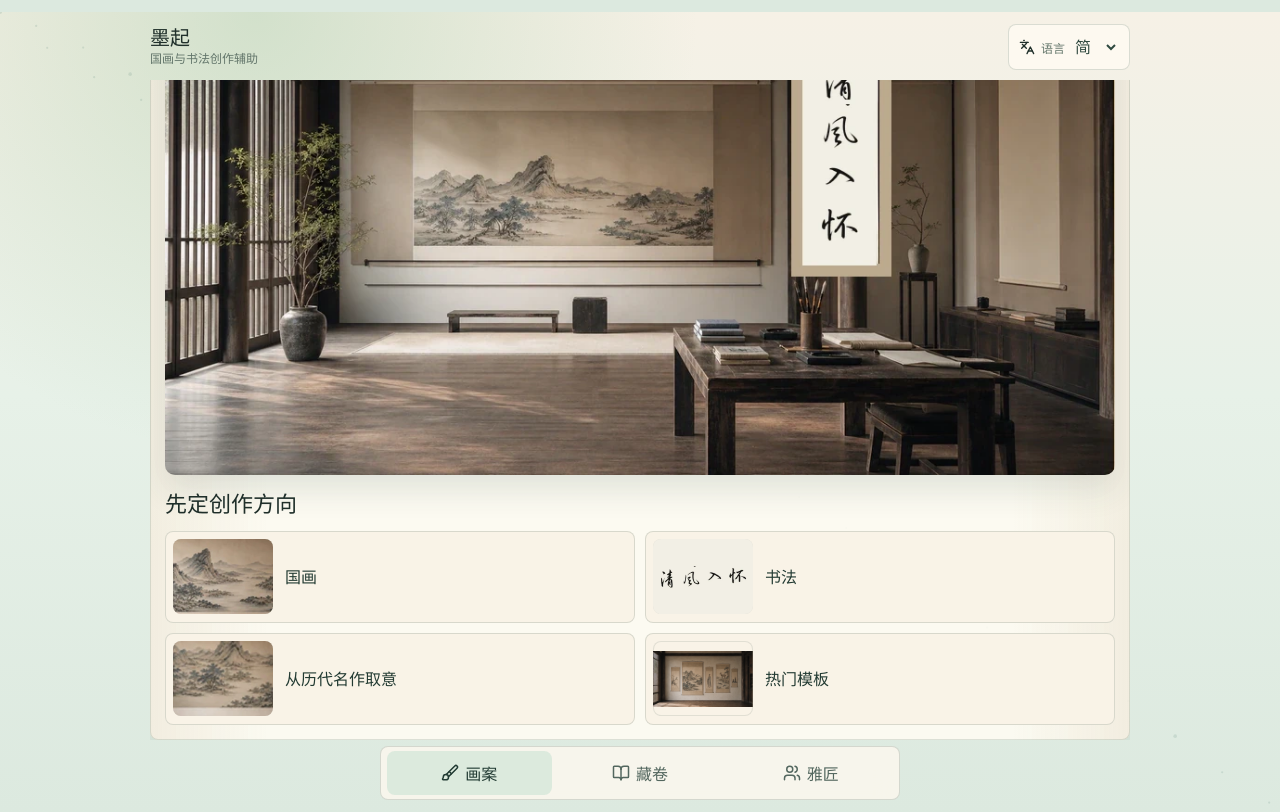
it: App › keeps the final photo step after switching from studio to library and back
This screenshot has width=1280, height=812.
(page scrolled)
Click the button "国画". click: [223, 577]
box: [165,531,635,623]
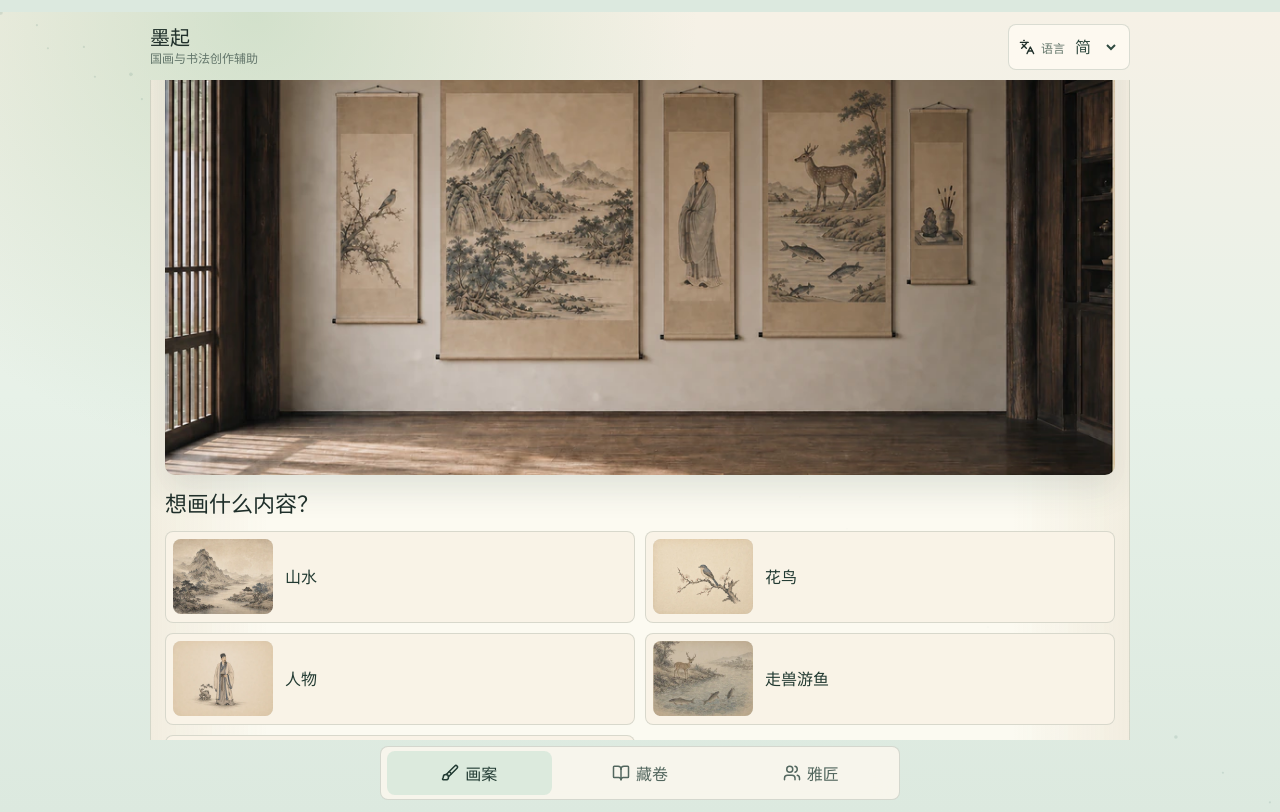
Click the button "山水". click: [223, 577]
box: [165,531,635,623]
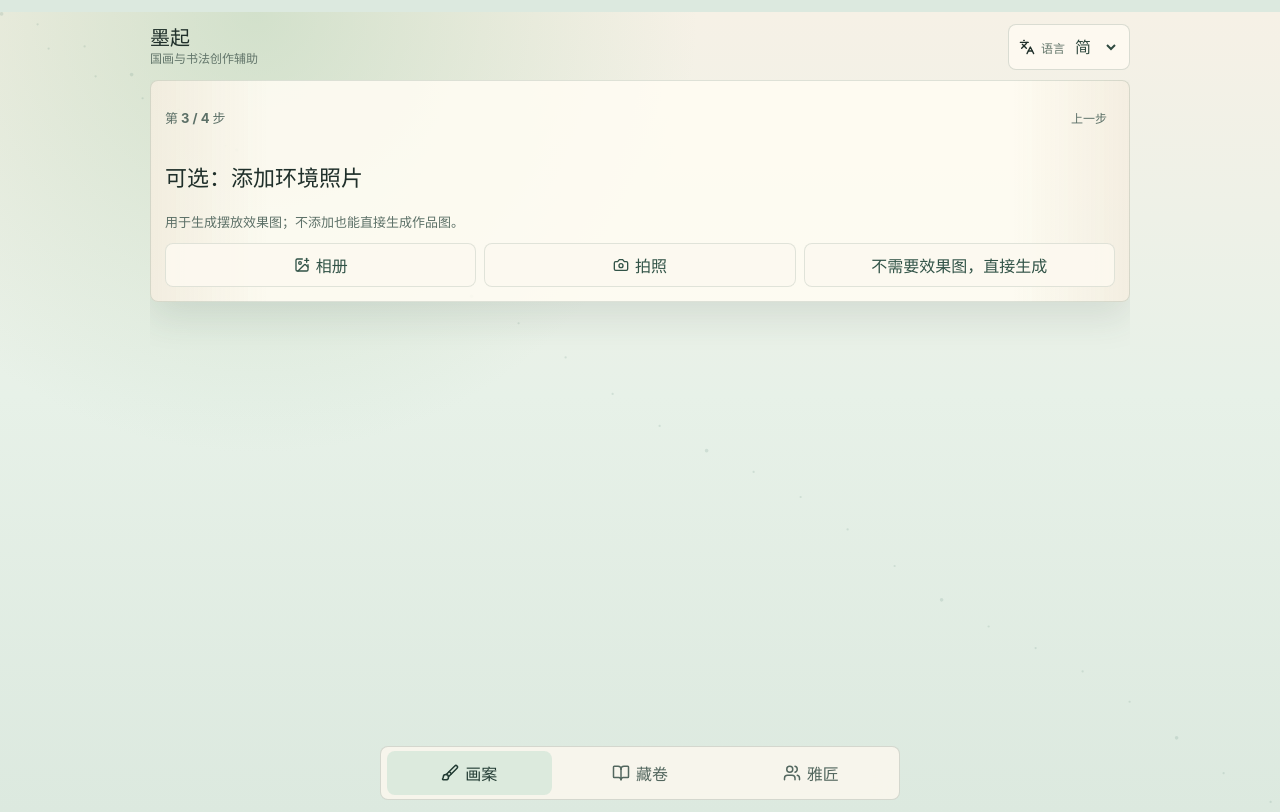
Check: the heading "可选：添加环境照片" is shown, box [165,165,363,191]
Click the button "藏卷". click: [640, 773]
box: [558,751,722,795]
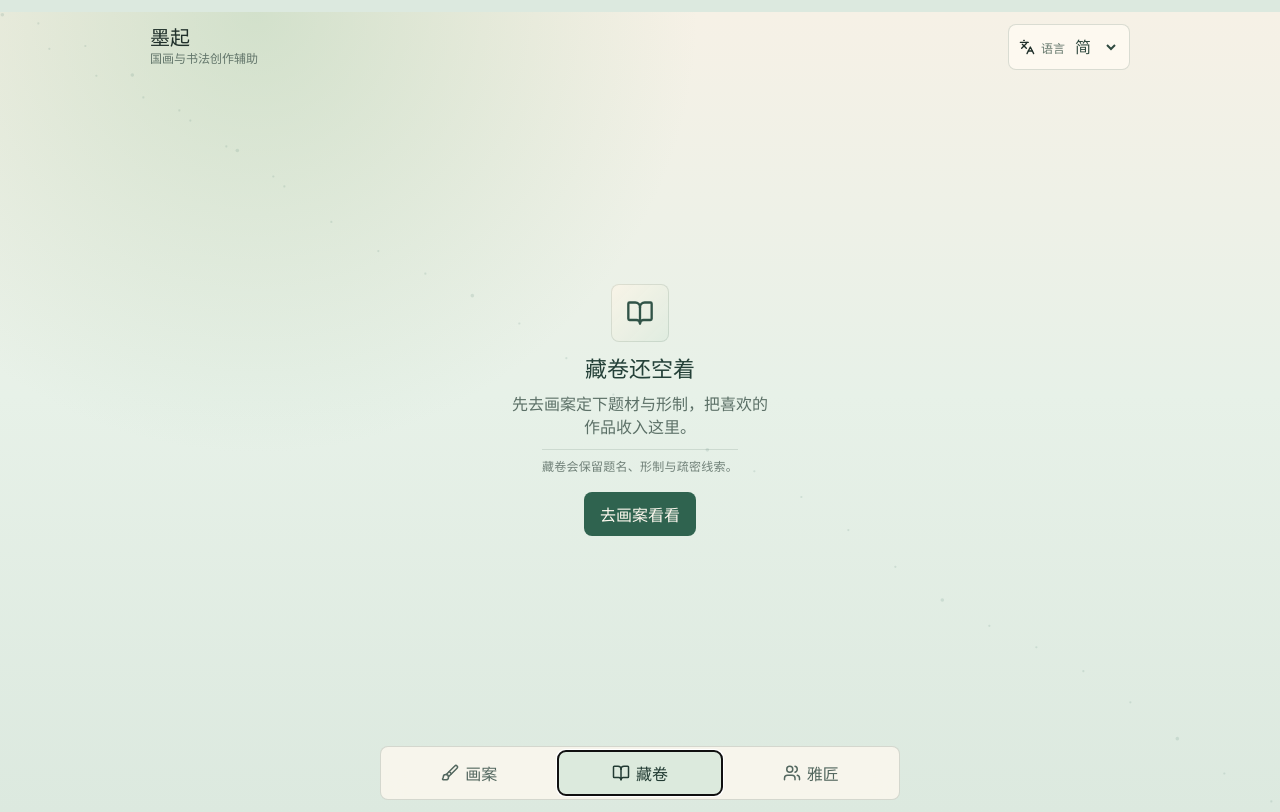
Check: the heading "藏卷还空着" is shown, box [585,356,695,383]
Click the button "画案". click: [469, 773]
box: [387,751,552,795]
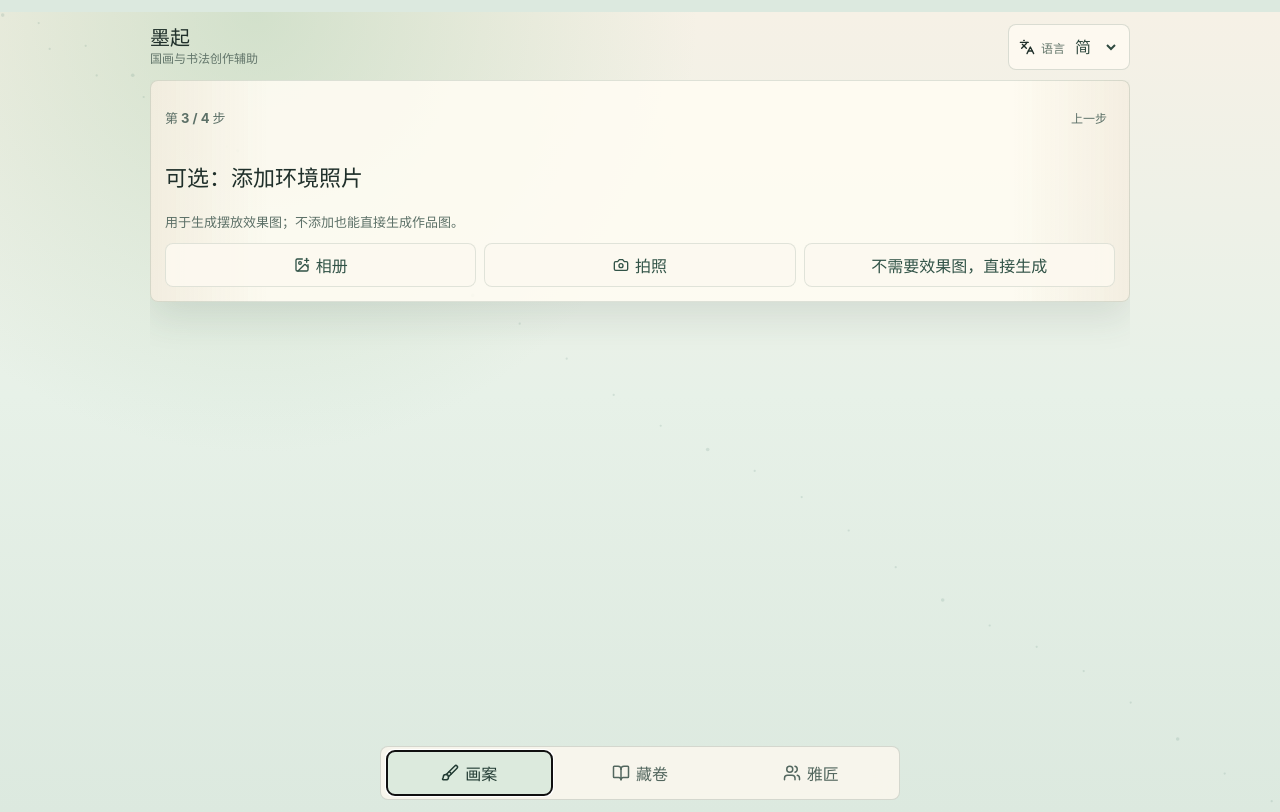
Check: the heading "先定创作方向" is not shown
Check: the heading "可选：添加环境照片" is shown, box [165,165,363,191]
Check: the text "第 3 / 4 步" is shown, box [165,108,226,126]
